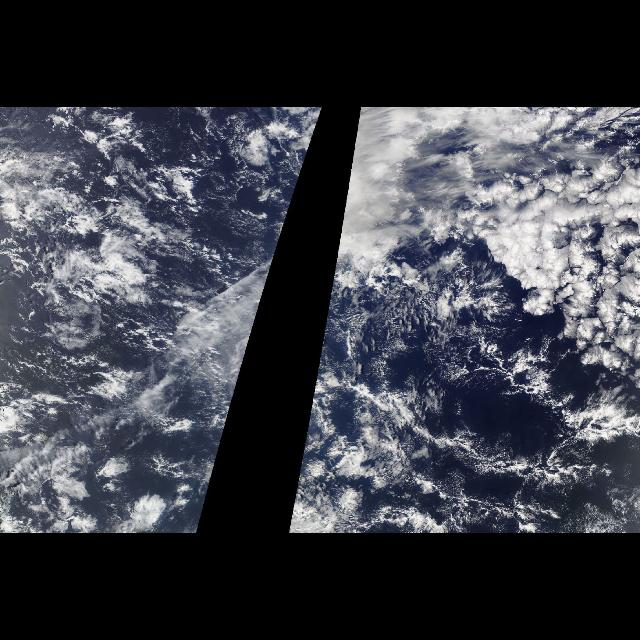Fish: (418, 355, 590, 529)
Flower: (544, 187, 638, 346)
Gravel: (2, 166, 196, 346)
